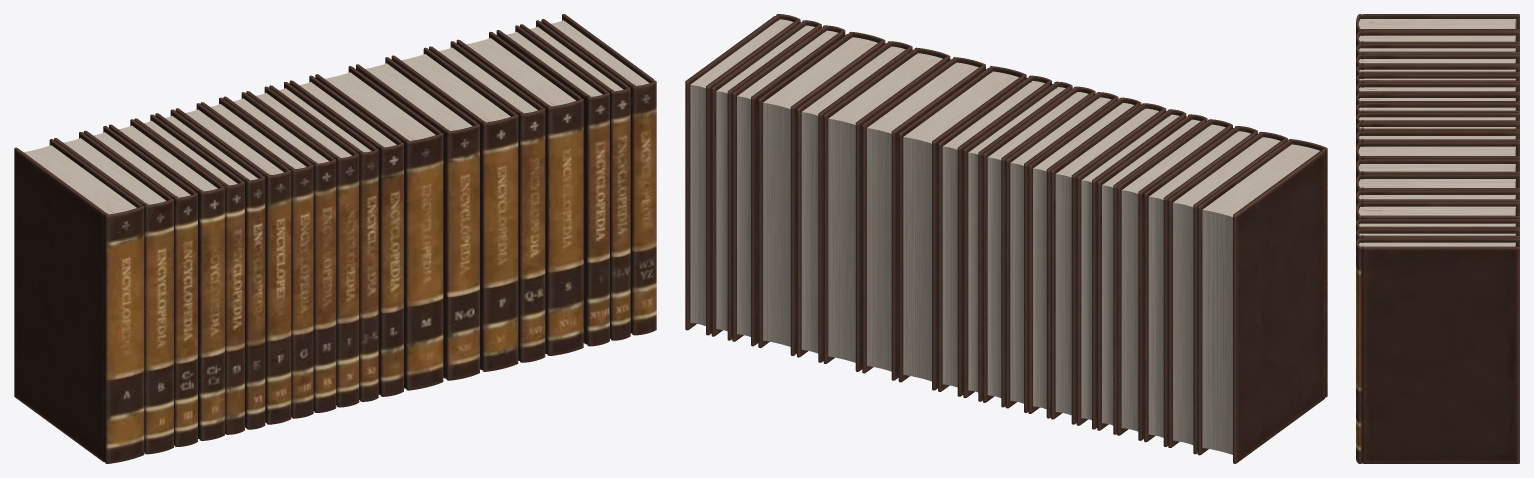
File: book_encyclopedia_set_01.glb
3 renders of one model, left to right at view 1: azimuth 30°, elevation 25°; view 2: azimuth 150°, elevation 25°; view 3: azimuth 270°, elevation 25°, orthographic. The views are drawn at different scales.
Parts seen in each view (by area): view 1: book_encyclopedia_set_01_book01; view 2: book_encyclopedia_set_01_book01; view 3: book_encyclopedia_set_01_book01.
Part boxes in pixels (bbox=[...]): book_encyclopedia_set_01_book01: bbox=[14, 14, 656, 463]; book_encyclopedia_set_01_book01: bbox=[685, 14, 1327, 463]; book_encyclopedia_set_01_book01: bbox=[1356, 14, 1519, 463].
Bounding box in the file's own units: 0.5513 × 0.2374 × 0.1631.
Materials: 2 (2 with a texture image).
